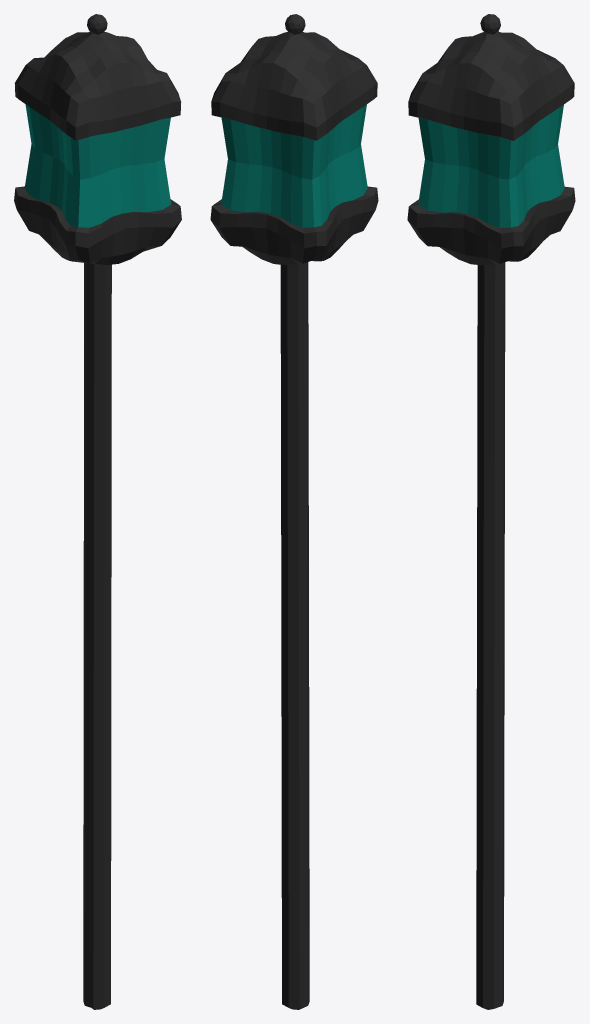
The model's file is lamp post.fbx.
3 renders of one model, left to right at view 1: azimuth 30°, elevation 25°; view 2: azimuth 150°, elevation 25°; view 3: azimuth 330°, elevation 25°, orthographic.
Visible parts, largest first — view 1: Cube.006, Cube.007; view 2: Cube.006, Cube.007; view 3: Cube.006, Cube.007.
Part boxes in pixels (<box>): Cube.006: <box>14,14,181,1009</box>; Cube.007: <box>24,104,171,227</box>; Cube.006: <box>210,14,378,1009</box>; Cube.007: <box>221,104,367,227</box>; Cube.006: <box>407,14,575,1009</box>; Cube.007: <box>418,104,564,227</box>.
Bounding box in the file's own units: 78.11 × 654 × 78.11.
